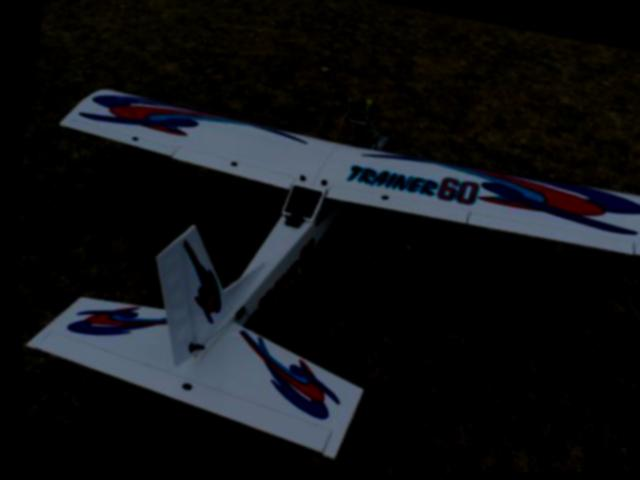uav: (4, 63, 640, 480)
